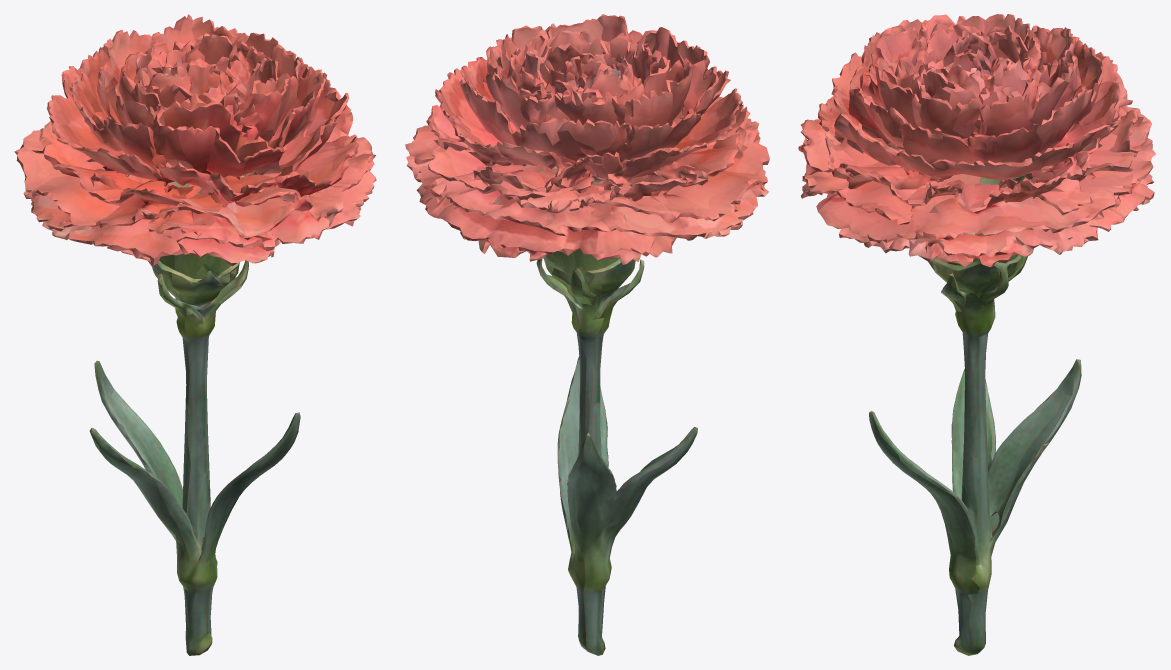
File: lux-carnation.glb
3 renders of one model, left to right at view 1: azimuth 30°, elevation 25°; view 2: azimuth 150°, elevation 25°; view 3: azimuth 270°, elevation 25°, orthographic. The views are drawn at different scales.
Parts seen in each view (by area): view 1: geometry_0; view 2: geometry_0; view 3: geometry_0.
Part boxes in pixels (<box>): geometry_0: <box>14,14,376,655</box>; geometry_0: <box>405,14,769,655</box>; geometry_0: <box>798,14,1156,655</box>.
Bounding box in the file's own units: 0.2477 × 0.45 × 0.2384.
Materials: 1 (1 with a texture image).
